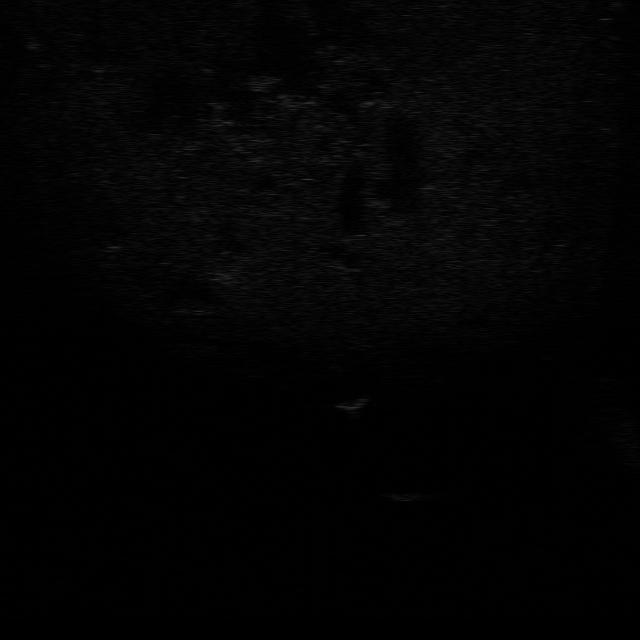cube: (380, 483, 430, 504)
square cage: (332, 392, 378, 418)
